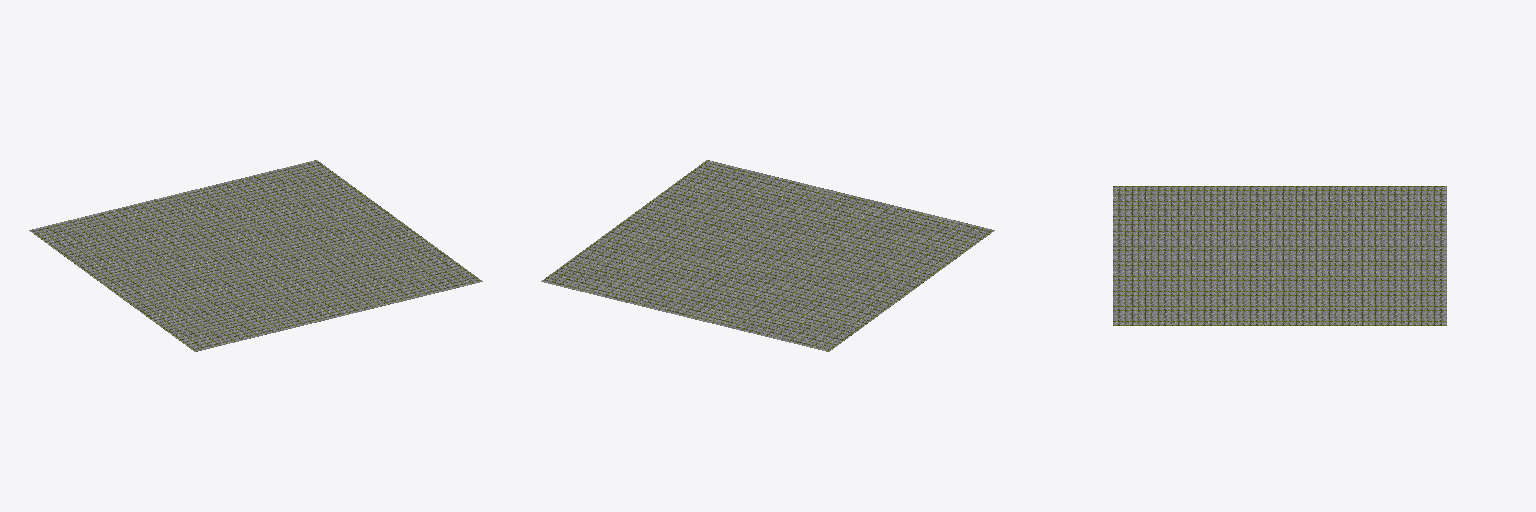
3 renders of one model, left to right at view 1: azimuth 30°, elevation 25°; view 2: azimuth 150°, elevation 25°; view 3: azimuth 270°, elevation 25°, orthographic.
Visible parts, largest first — view 1: Piso:pPlane1; view 2: Piso:pPlane1; view 3: Piso:pPlane1.
Boxes of the visible parts, x1,y1,x2,y2 form: Piso:pPlane1: [29, 160, 482, 351]; Piso:pPlane1: [541, 160, 994, 351]; Piso:pPlane1: [1113, 186, 1446, 325].
Size of the model in its own units: 100 by 0 by 100.
Materials: 1 (1 with a texture image).